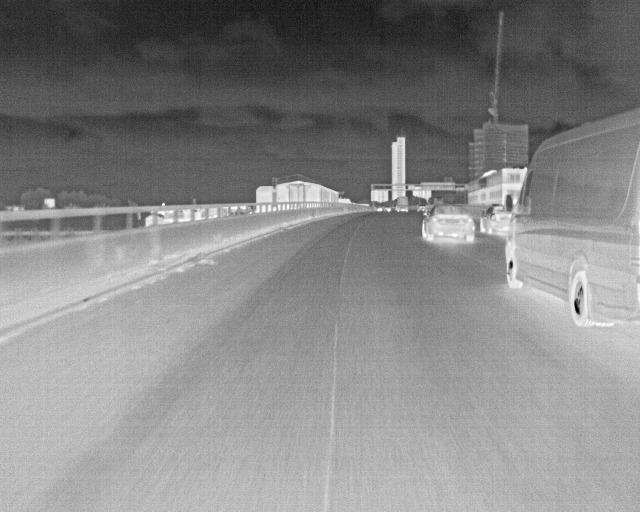car: (506, 106, 639, 327), (422, 205, 475, 243), (480, 204, 516, 234), (145, 210, 174, 227), (227, 206, 253, 217), (396, 197, 409, 213), (417, 204, 427, 212), (383, 206, 392, 212), (376, 206, 383, 212)
light: (271, 178, 276, 188)
sign: (421, 183, 454, 190), (444, 177, 453, 183), (408, 184, 415, 190)
